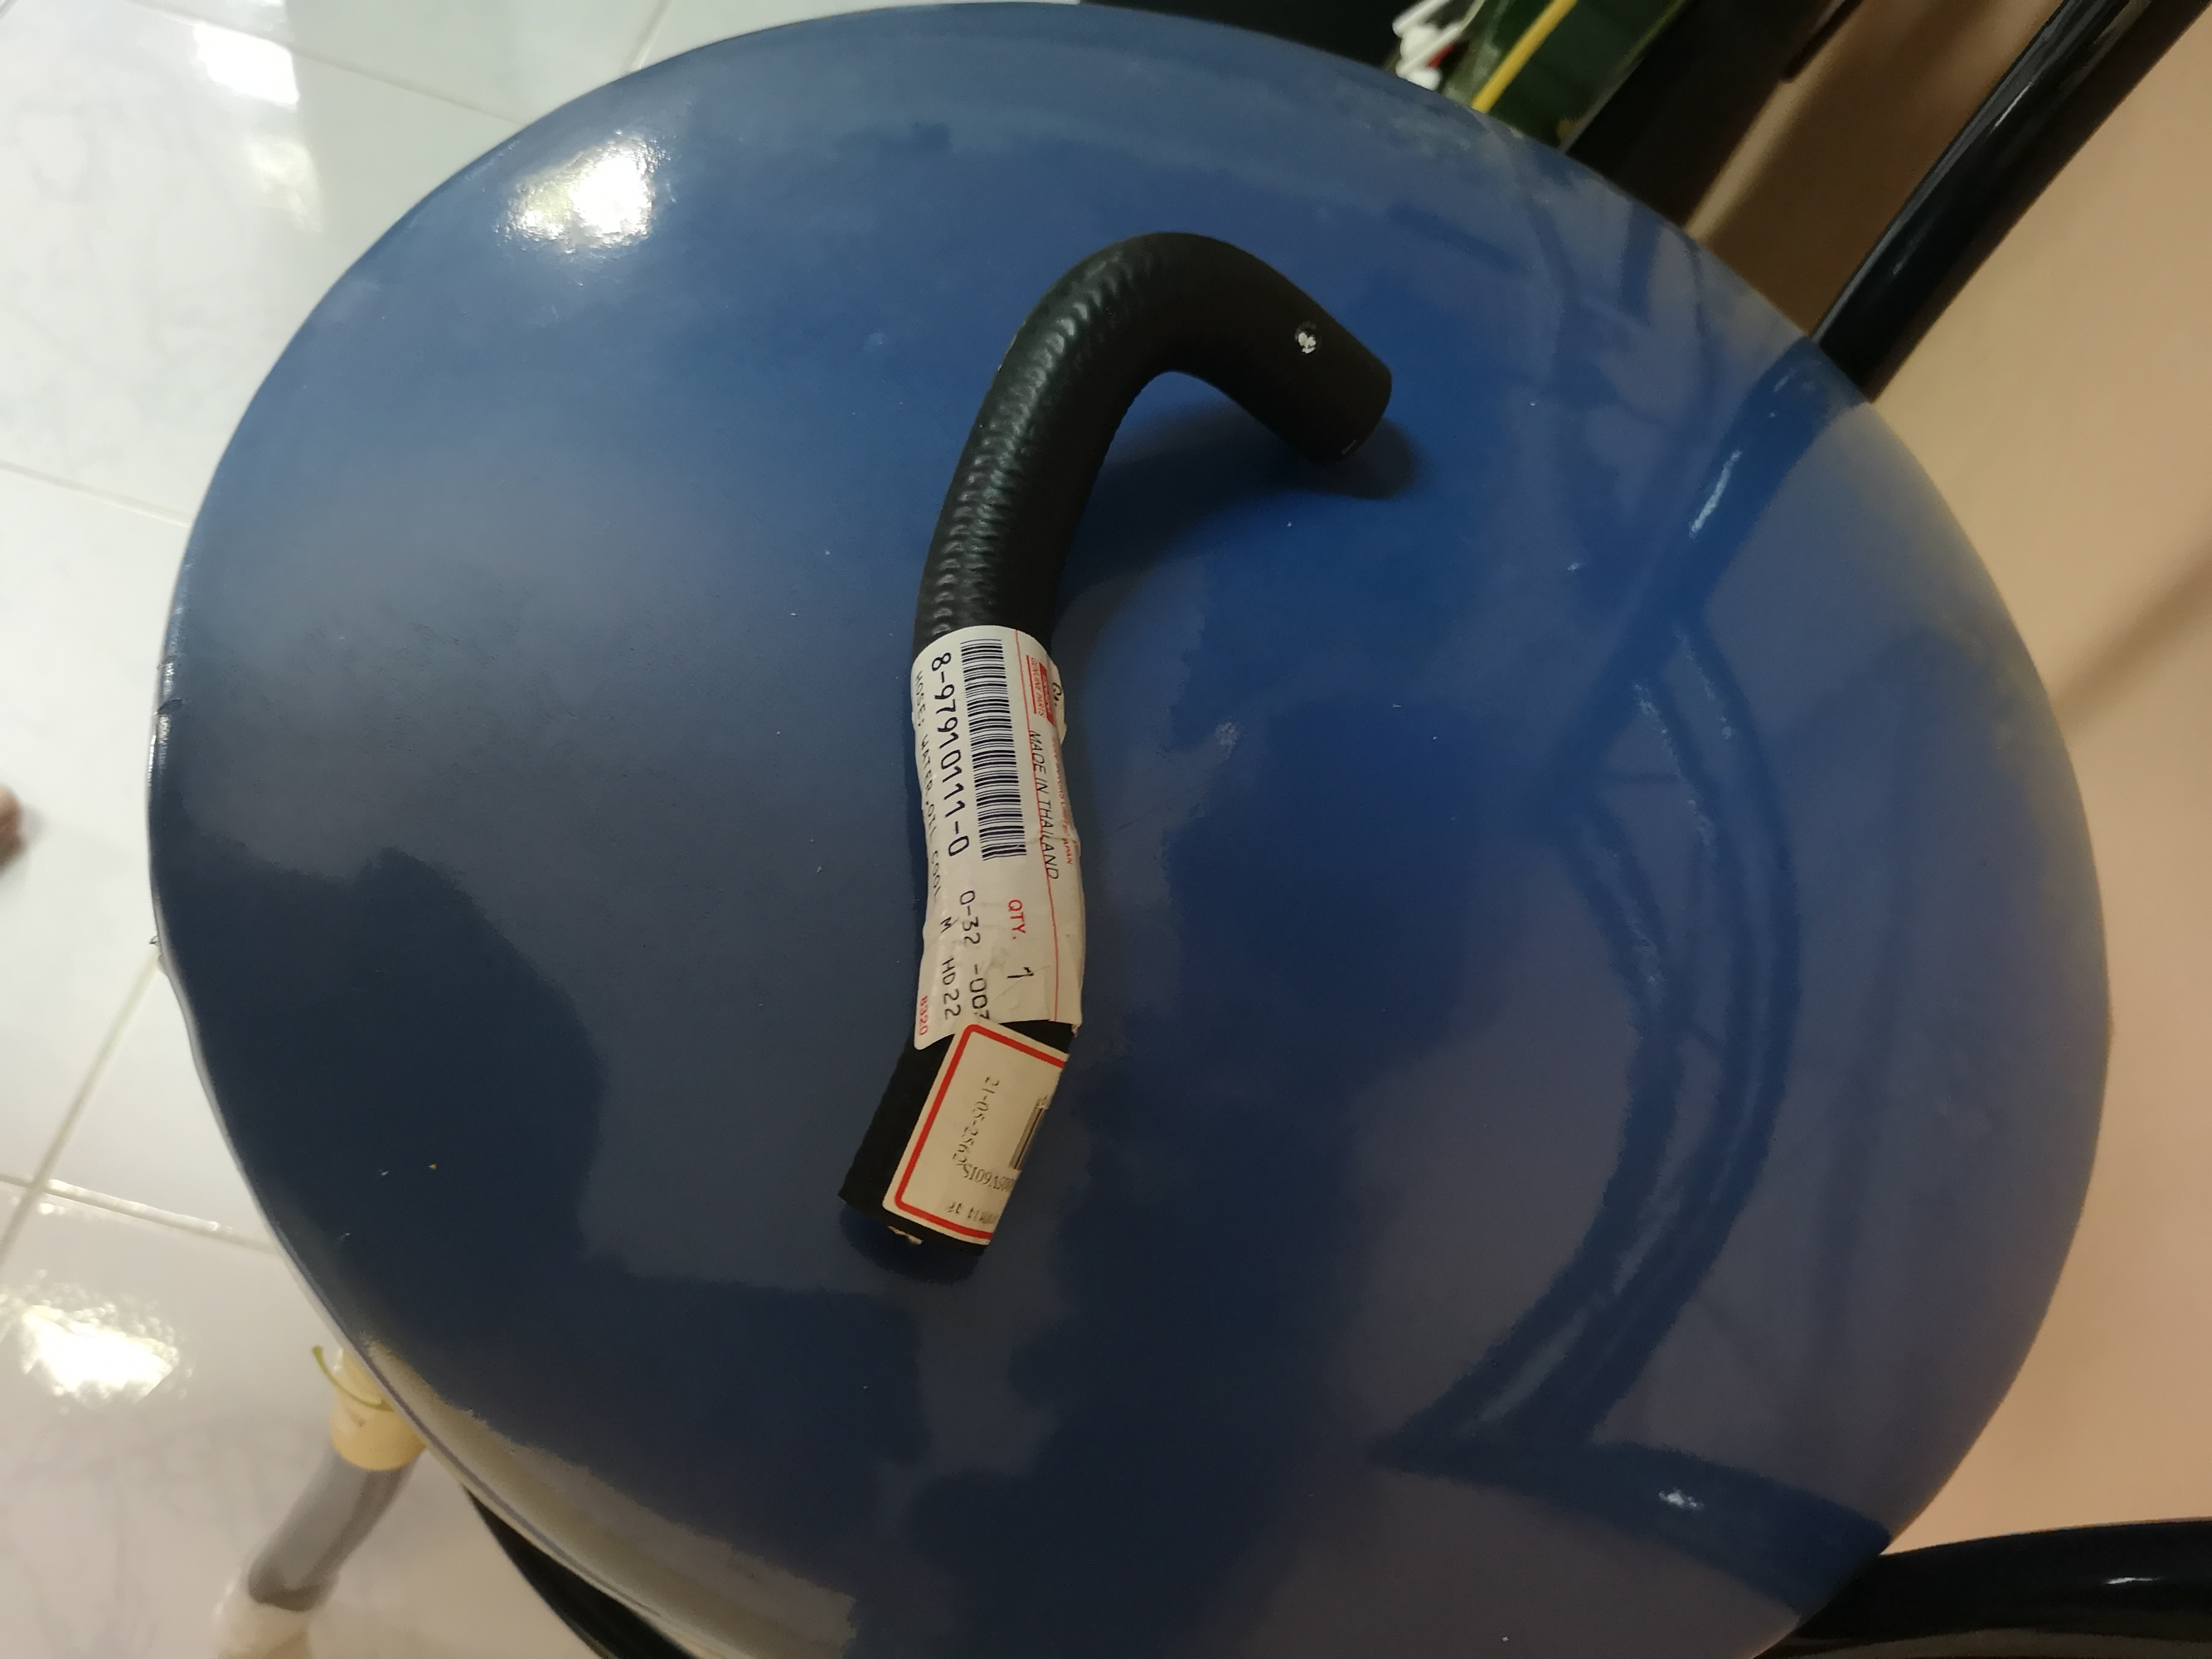ท่อยางน้ำมันเลี้ยงเทอร์โบ: (735, 220, 1425, 1326)
